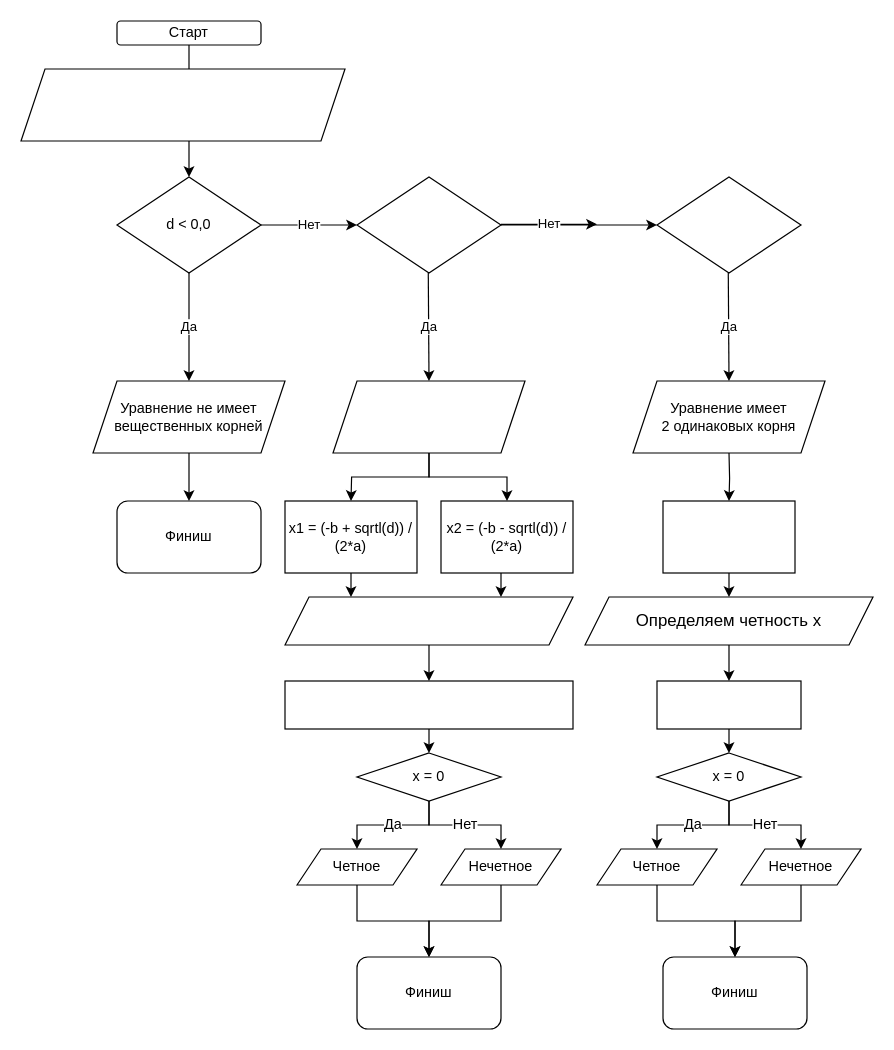
Image size: 894x1050. Some labels were removed from this diagram. Here are the shapes that lost their labels. From the top down, the centre of each, then its label:
At pixel 182 104: "Определяем Дискриминант (d); Вводим числа a, b, c.".
At pixel 428 224: "d > 0,0".
At pixel 728 224: "d = 0,0".
At pixel 428 416: "Уравнение имеет 2 корня".
At pixel 728 536: "x = (-b / 2*a)".
At pixel 428 620: "Определяем четность x1 и x2".
At pixel 428 704: "Вычисляем остаток от деления для обоих корней по формуле x % 2".
At pixel 728 704: "Вычисляем остаток от деления x % 2".
